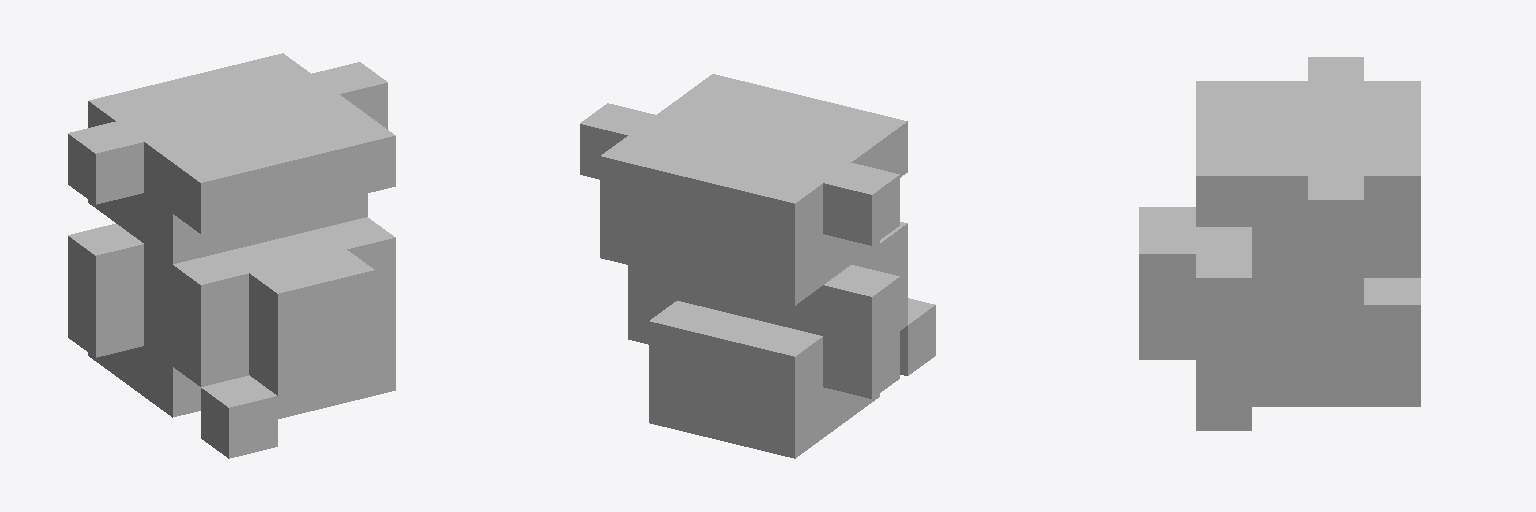
The model's file is Golem waist.obj.
3 renders of one model, left to right at view 1: azimuth 30°, elevation 25°; view 2: azimuth 150°, elevation 25°; view 3: azimuth 270°, elevation 25°, orthographic.
Bounding box in the file's own units: 6 × 5 × 5.